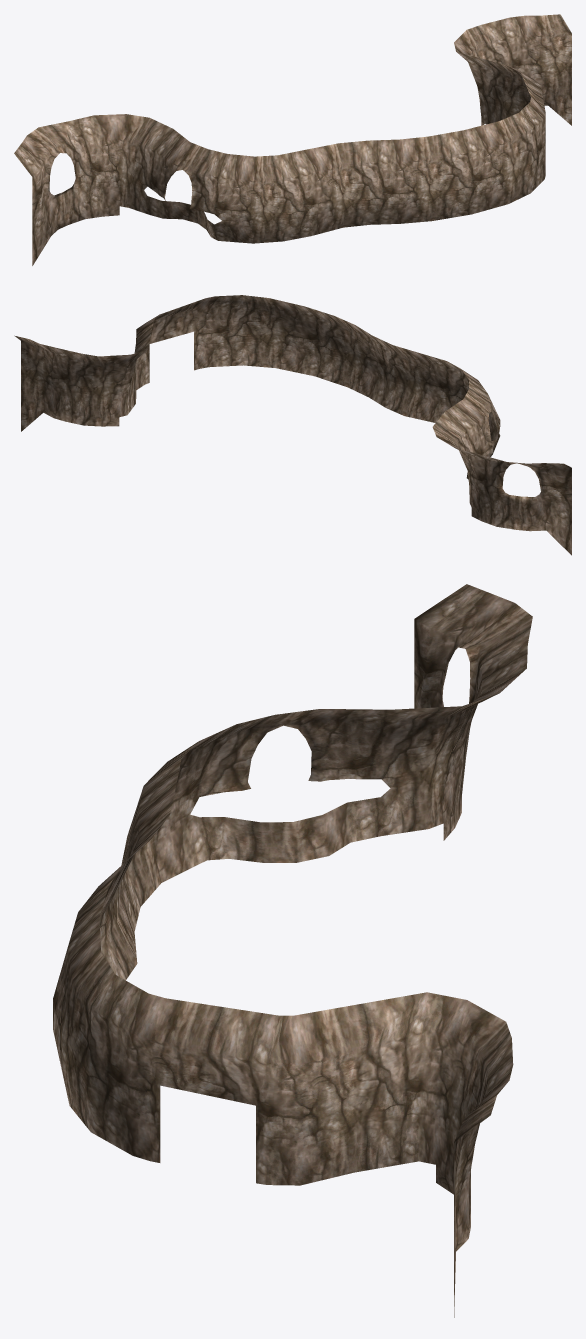
Rendered from OVERHILL_A_01_OBJECT149.fbx.
3 views of the same model, one above another, from view 1: azimuth 30°, elevation 25°; view 2: azimuth 150°, elevation 25°; view 3: azimuth 270°, elevation 25° (orthographic). The views are drawn at different scales.
Parts seen in each view (by area): view 1: OVERHILL_A_01_OBJECT149; view 2: OVERHILL_A_01_OBJECT149; view 3: OVERHILL_A_01_OBJECT149.
Part boxes in pixels (x1,y1,x2,y2): OVERHILL_A_01_OBJECT149: [14, 14, 571, 265]; OVERHILL_A_01_OBJECT149: [14, 295, 571, 555]; OVERHILL_A_01_OBJECT149: [53, 584, 532, 1317].
Bounding box in the file's own units: 516827 × 98200 × 196654.
Materials: 1 (1 with a texture image).
